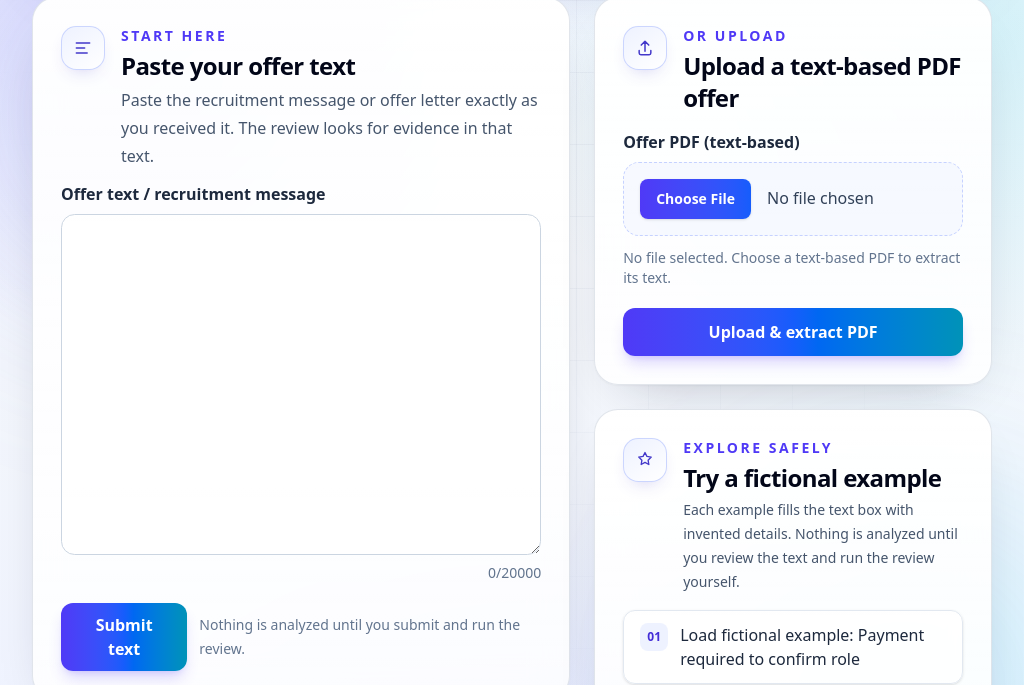
Test case: OfferShield review page › shows the partial AI review mode
(page scrolled)
Step 1. Type "To confirm your acceptance, please pay the registration fee." into the text box labelled "Offer text / recruitment message" → (301, 385), box [61,214,541,555]
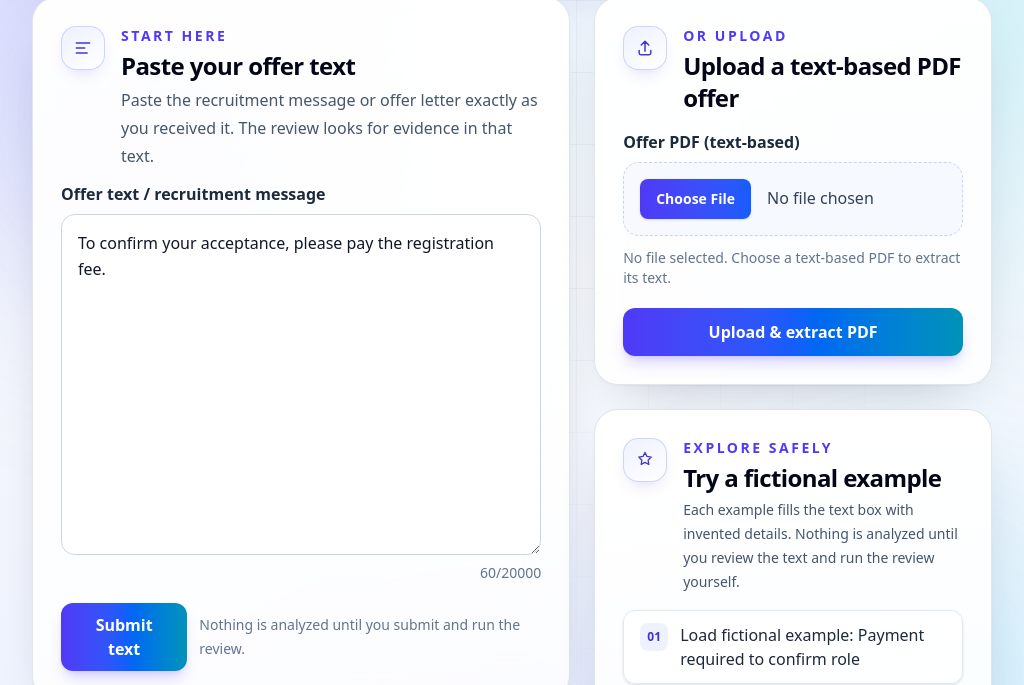
Step 2. Click the button "Submit text" → (124, 637), box [61,603,187,671]
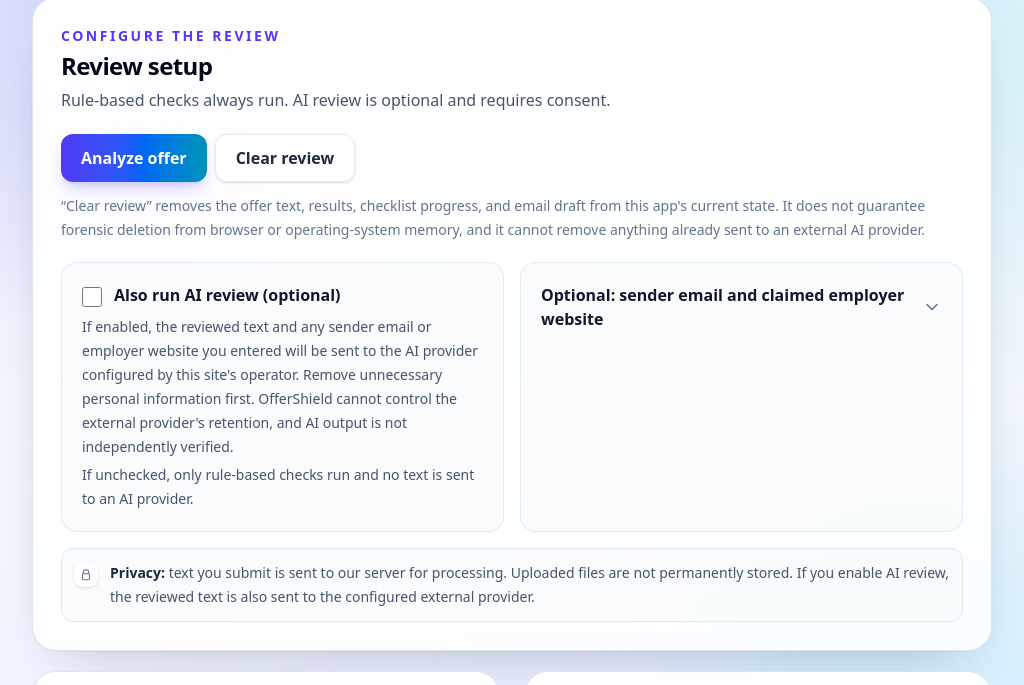
Expected: the button "Analyze offer" is shown
Step 3. Click the button "Analyze offer" → (134, 158), box [61,134,207,182]
(page scrolled)
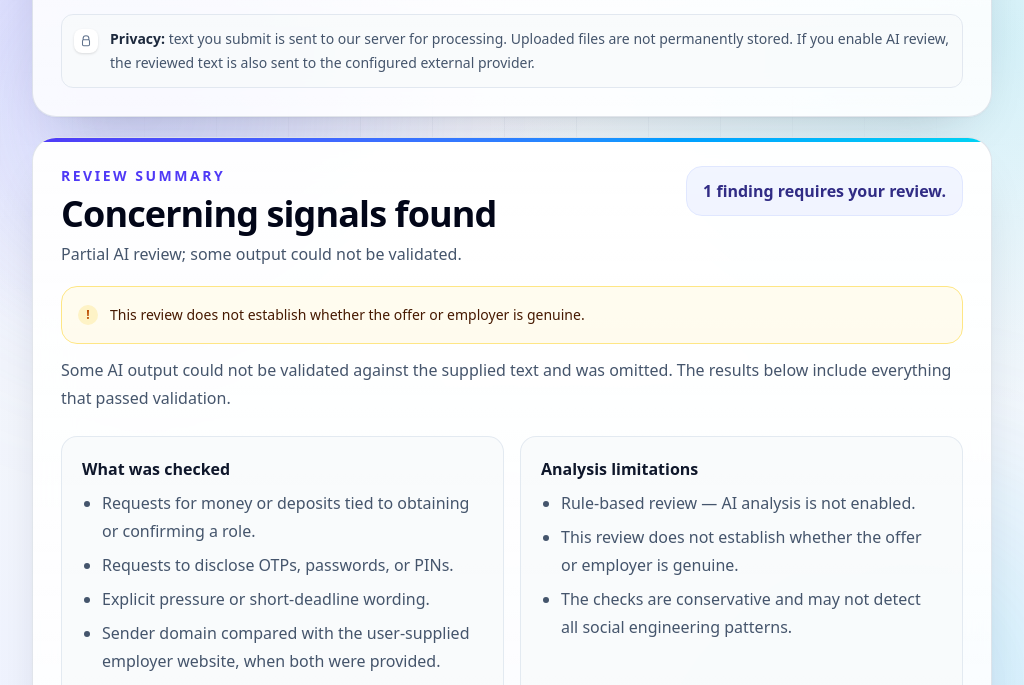
Expected: the text "Partial AI review; some output could not be validated." is shown, [61,242,496,266]
Expected: the text "Some AI output could not be validated" is shown, [61,359,951,409]
